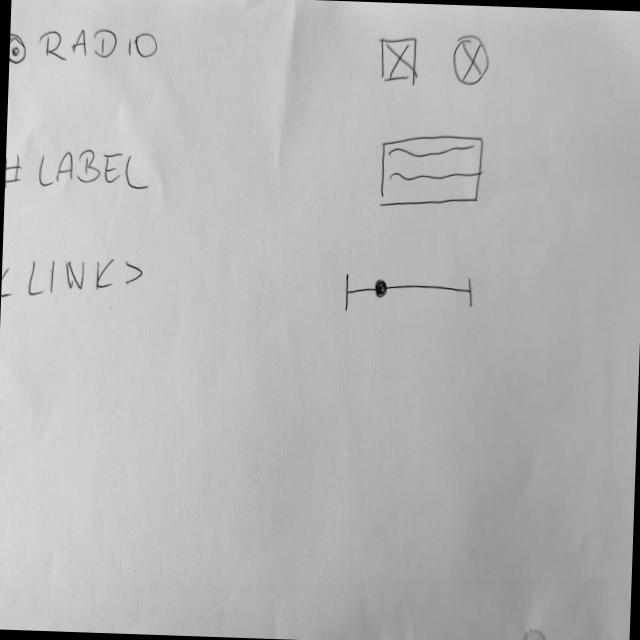image: (450, 32, 490, 86), (377, 34, 418, 84)
label: (5, 145, 154, 195)
link: (0, 252, 146, 306)
radio: (9, 24, 160, 70)
slider: (344, 269, 474, 318)
textarea: (376, 130, 484, 214)
